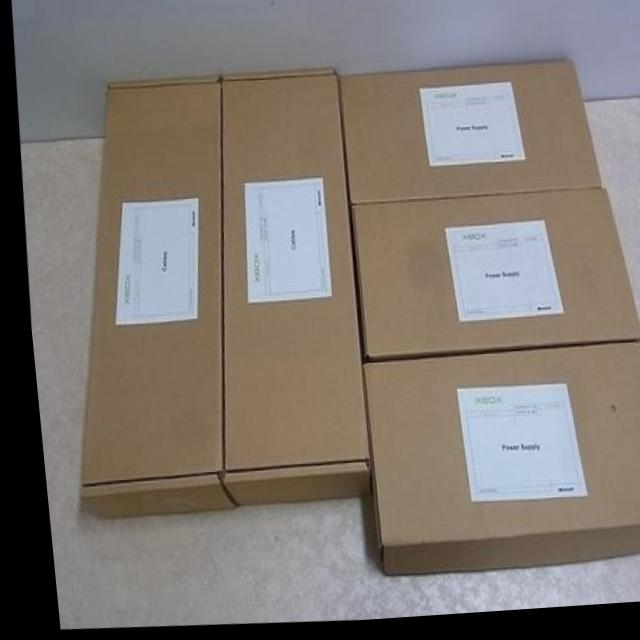box: (68, 79, 228, 521), (355, 350, 640, 579), (212, 72, 360, 508), (345, 195, 634, 364), (337, 68, 597, 209)
